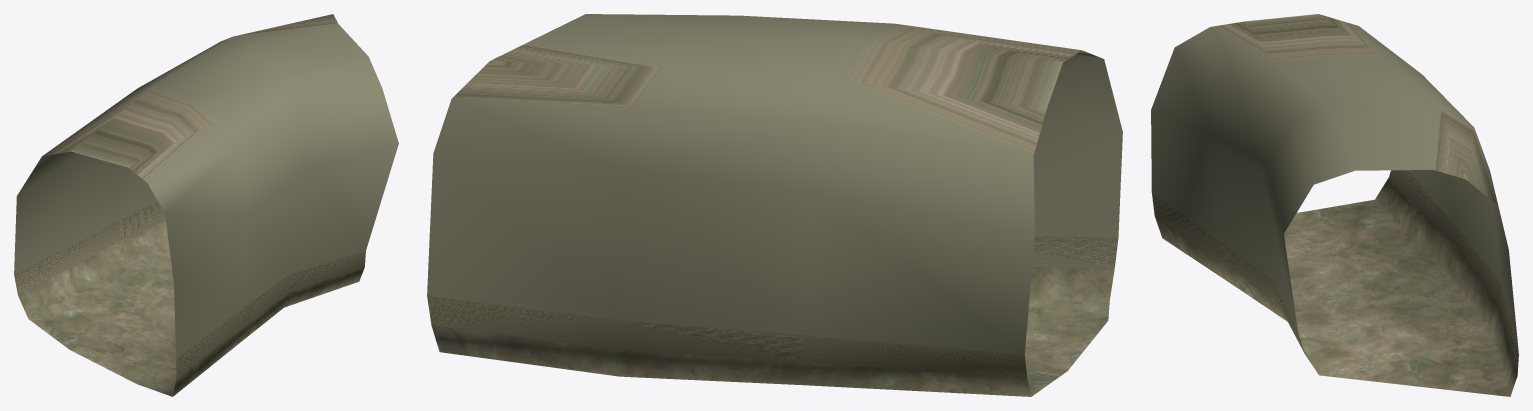
The model's file is OVERHILL_A_01_OH_B_OBJECT46.fbx.
The picture shows the model from 3 angles, left to right: view 1: azimuth 30°, elevation 25°; view 2: azimuth 150°, elevation 25°; view 3: azimuth 270°, elevation 25°; orthographic projection. The views are drawn at different scales.
Visible parts, largest first — view 1: OVERHILL_A_01_OH_B_OBJECT46; view 2: OVERHILL_A_01_OH_B_OBJECT46; view 3: OVERHILL_A_01_OH_B_OBJECT46.
Boxes of the visible parts, x1=… form: OVERHILL_A_01_OH_B_OBJECT46: x1=14, y1=14, x2=398, y2=396; OVERHILL_A_01_OH_B_OBJECT46: x1=427, y1=14, x2=1122, y2=396; OVERHILL_A_01_OH_B_OBJECT46: x1=1151, y1=14, x2=1518, y2=396.
Bounding box in the file's own units: 45701 × 26107 × 36655.
1 material, 1 textured.
